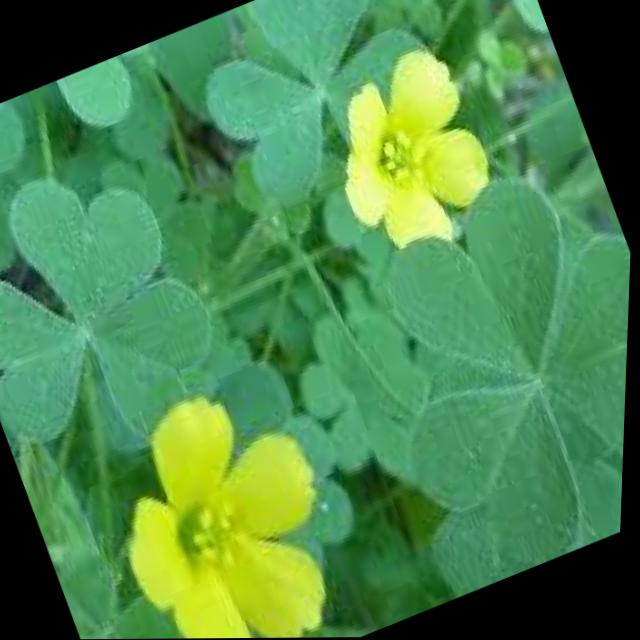Flower: (75, 355, 380, 639), (299, 31, 532, 288)
